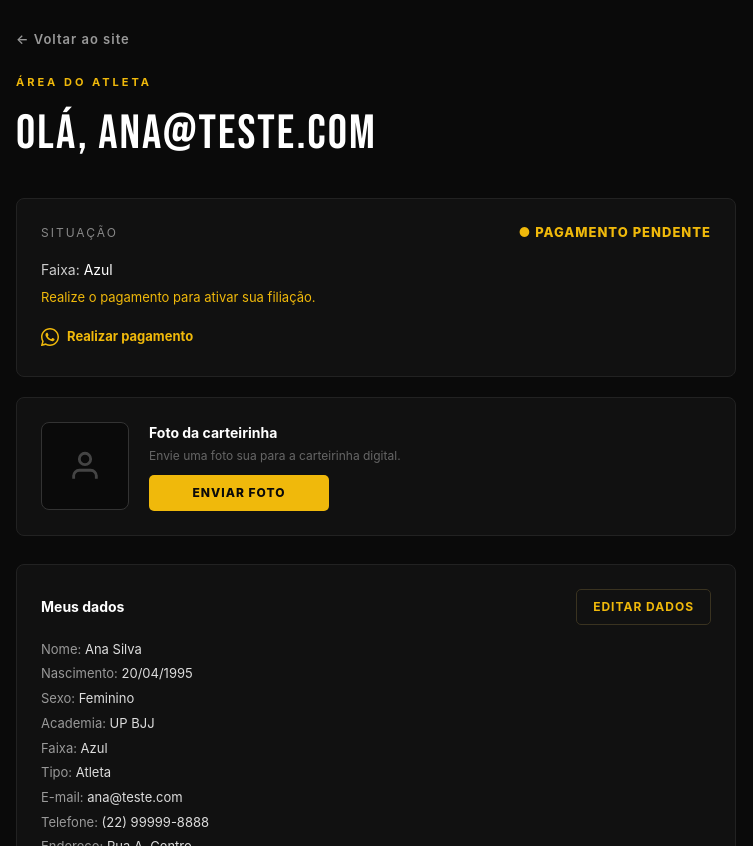
Test: Painel — edição de dados › mostra os novos dados na visualização depois de salvar
Click the button "Editar dados".
click(644, 607)  # box x1=576 y1=589 x2=711 y2=625
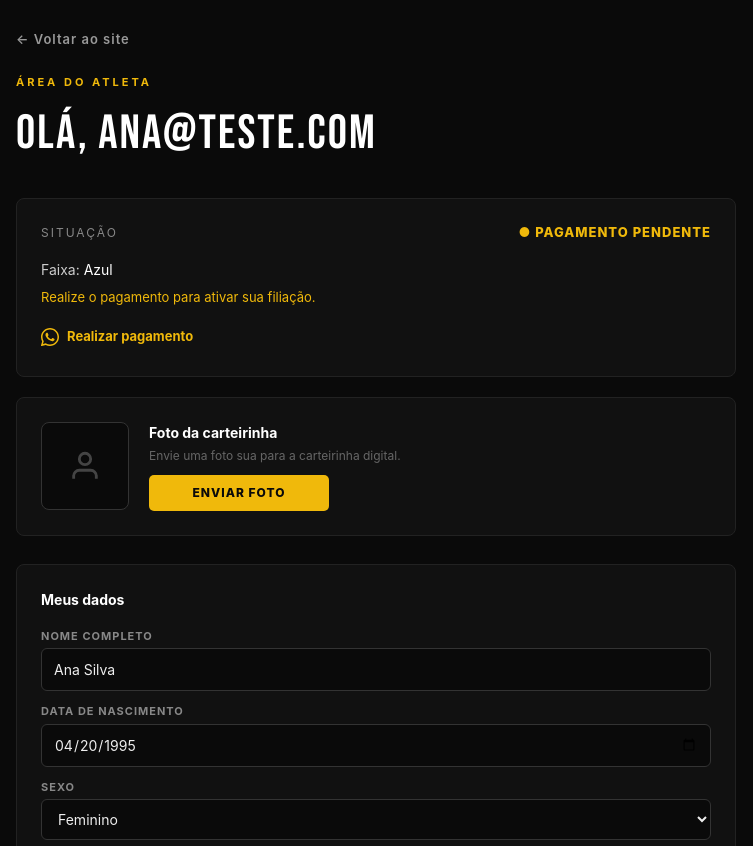
Replace the text in the field named "Nome completo" with "Ana Paula Silva" at [376, 670], box x1=41 y1=648 x2=711 y2=691
(page scrolled)
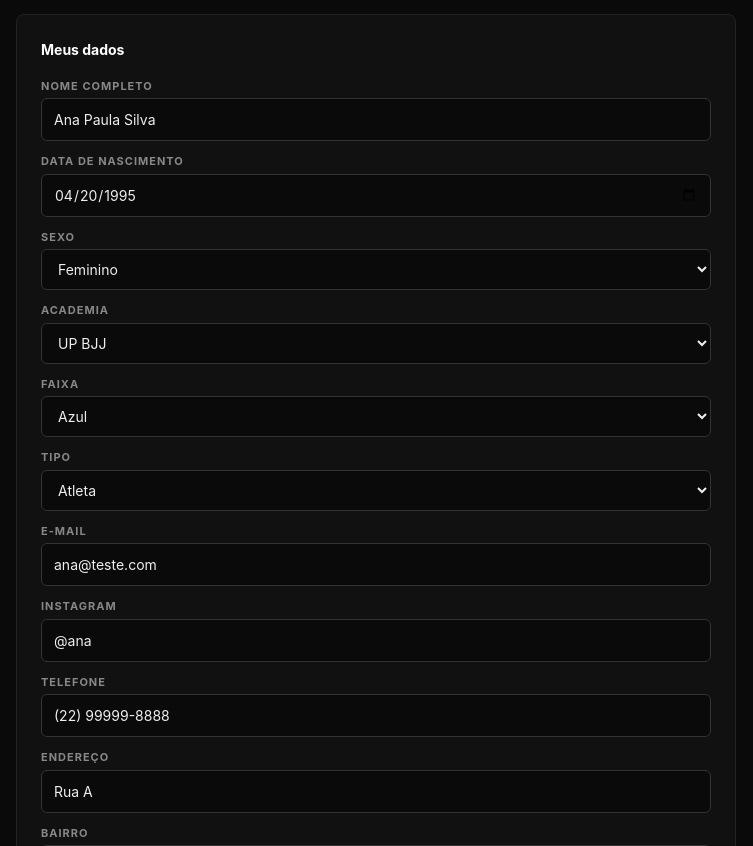
Select "Preta" in the dropdown named "Faixa" at [376, 417], box x1=41 y1=396 x2=711 y2=437
(page scrolled)
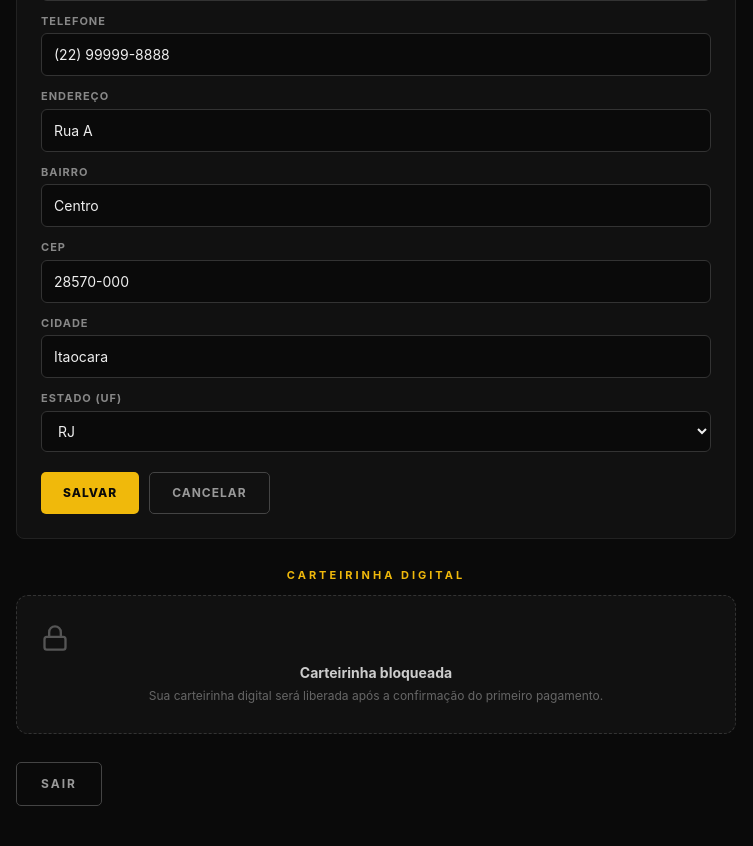
Click the button "Salvar".
click(90, 493)  # box x1=41 y1=472 x2=139 y2=514
(page scrolled)
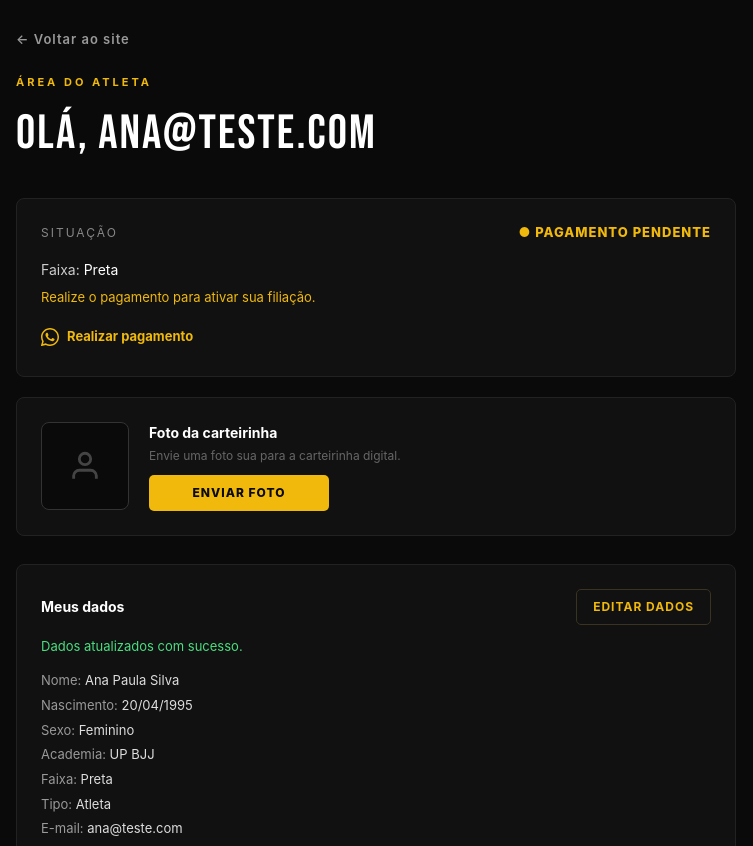
Now the text "Dados atualizados com sucesso." is shown, box x1=41 y1=638 x2=243 y2=654
Now the text "Ana Paula Silva" is shown, box x1=85 y1=672 x2=179 y2=688
Now the text "Preta" below "Situação" is shown, box x1=84 y1=260 x2=118 y2=278
